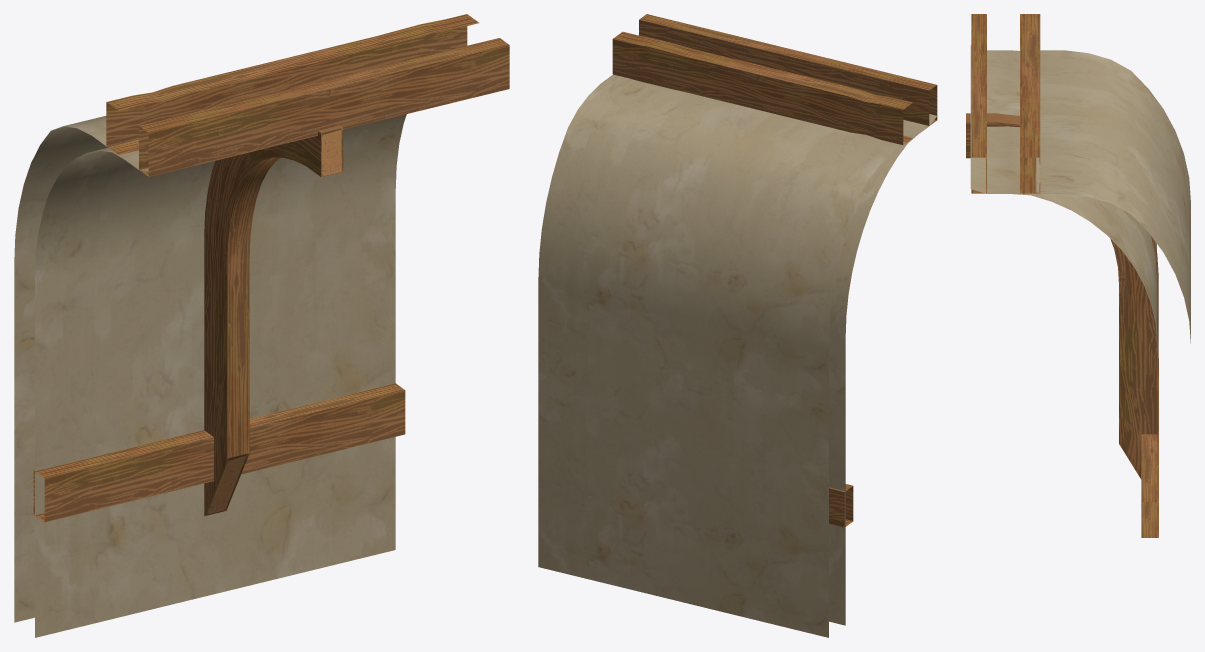
The model's file is Overhang_Plaster_Short.gltf.
3 renders of one model, left to right at view 1: azimuth 30°, elevation 25°; view 2: azimuth 150°, elevation 25°; view 3: azimuth 270°, elevation 25°, orthographic. The views are drawn at different scales.
Visible parts, largest first — view 1: Overhang_Plaster_Short; view 2: Overhang_Plaster_Short; view 3: Overhang_Plaster_Short.
Boxes of the visible parts, x1,y1,x2,y2 form: Overhang_Plaster_Short: (14, 14, 509, 637); Overhang_Plaster_Short: (538, 14, 937, 637); Overhang_Plaster_Short: (966, 14, 1190, 537).
Bounding box in the file's own units: 2 × 3.12 × 1.32.
Materials: 2 (2 with a texture image).
